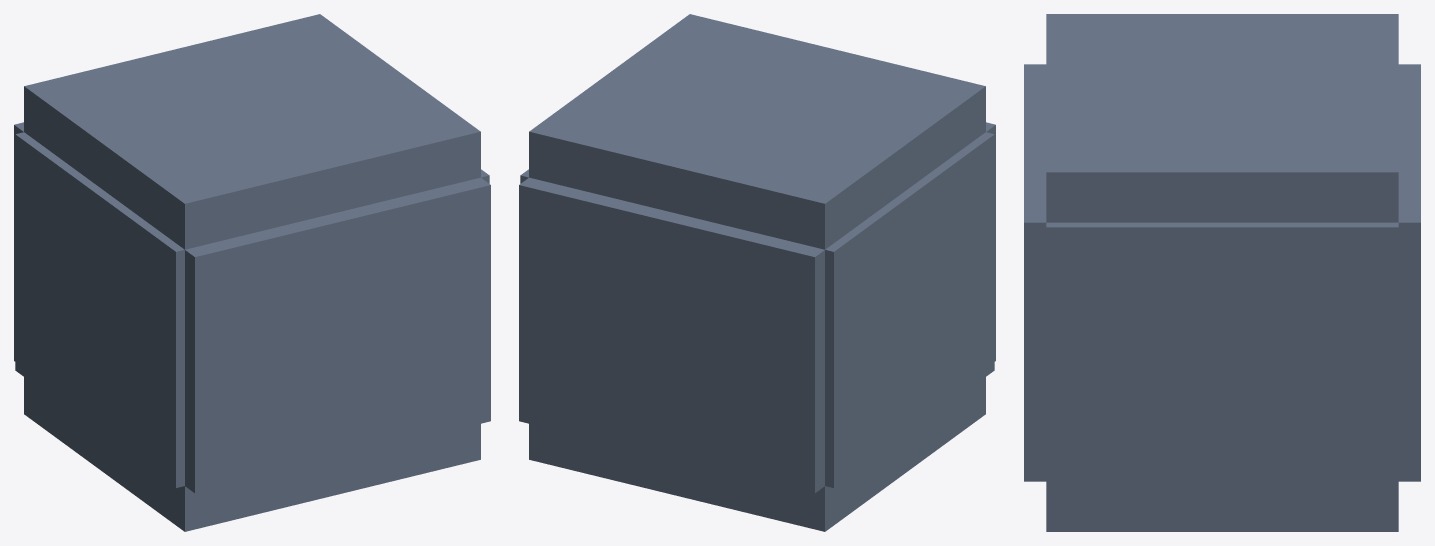
The model's file is bb_comp_GripRig_GripTick.fbx.
3 renders of one model, left to right at view 1: azimuth 30°, elevation 25°; view 2: azimuth 150°, elevation 25°; view 3: azimuth 270°, elevation 25°, orthographic. The views are drawn at different scales.
Visible parts, largest first — view 1: bb_comp_GripRig_GripTick; view 2: bb_comp_GripRig_GripTick; view 3: bb_comp_GripRig_GripTick.
Boxes of the visible parts, bbox=[...] form: bb_comp_GripRig_GripTick: bbox=[14, 14, 490, 531]; bb_comp_GripRig_GripTick: bbox=[519, 14, 995, 531]; bb_comp_GripRig_GripTick: bbox=[1024, 14, 1420, 531].
Size of the model in its own units: 1 by 1 by 1.
